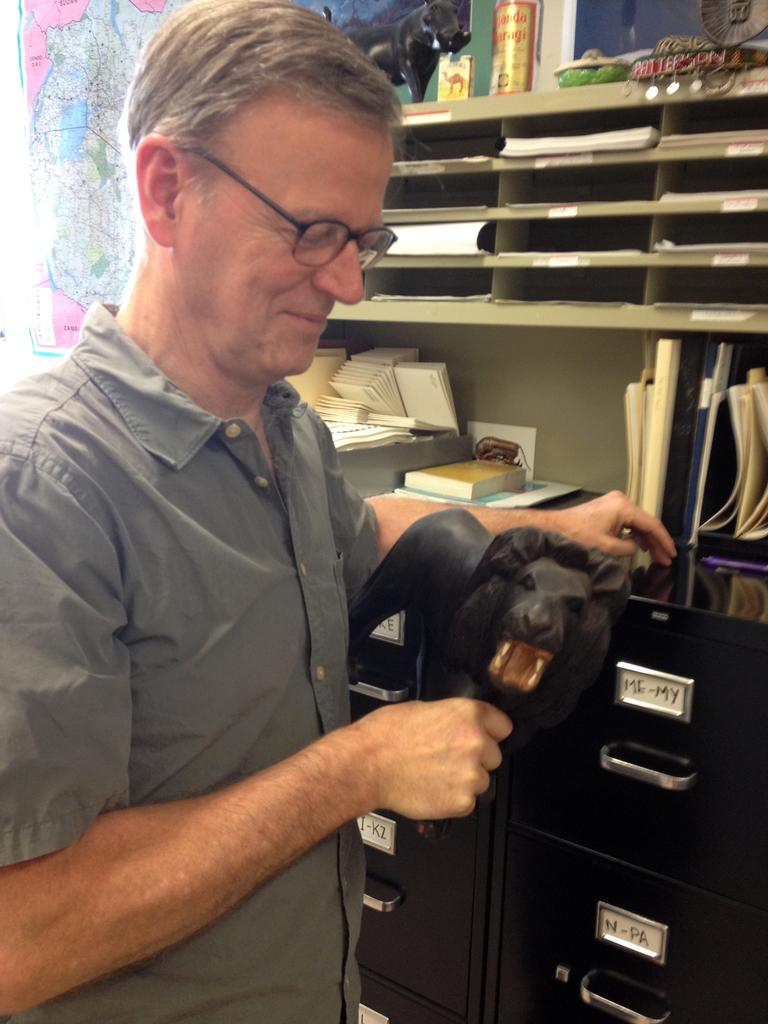cabinet_door: (554, 678, 764, 856), (518, 893, 741, 1024), (374, 830, 478, 980)
handle: (580, 970, 672, 1024), (595, 747, 690, 795), (368, 886, 402, 930)
